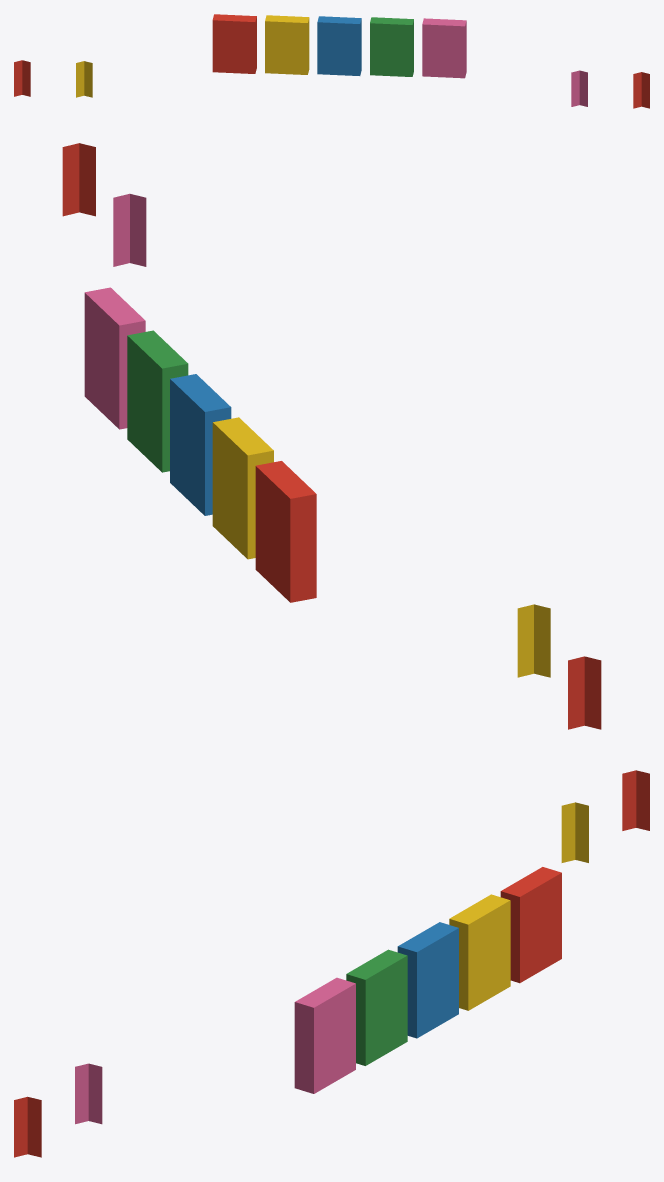
The model's file is ora_arubasign.glb.
The picture shows the model from 3 angles, top to bottom: view 1: azimuth 30°, elevation 25°; view 2: azimuth 150°, elevation 25°; view 3: azimuth 270°, elevation 25°; orthographic projection. The views are drawn at different scales.
Parts seen in each view (by area): view 1: ora_arubasign_lod0; view 2: ora_arubasign_lod0; view 3: ora_arubasign_lod0.
Boxes of the visible parts, x1,y1,x2,y2 form: ora_arubasign_lod0: (14, 14, 649, 108); ora_arubasign_lod0: (62, 143, 601, 729); ora_arubasign_lod0: (14, 770, 649, 1157).
Size of what is drawn, in the model's own units: 10.93 by 1.5 by 8.02.
